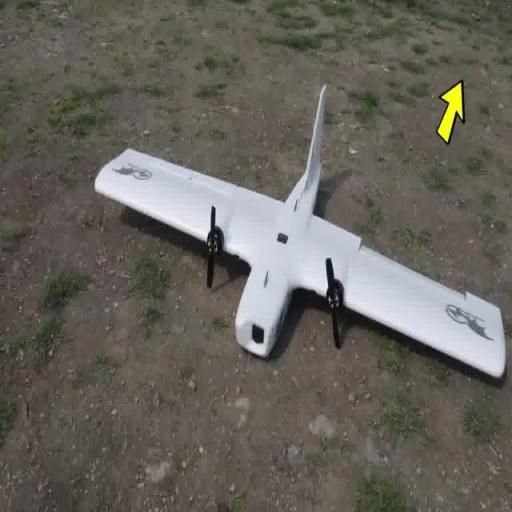uav: (92, 79, 508, 417)
